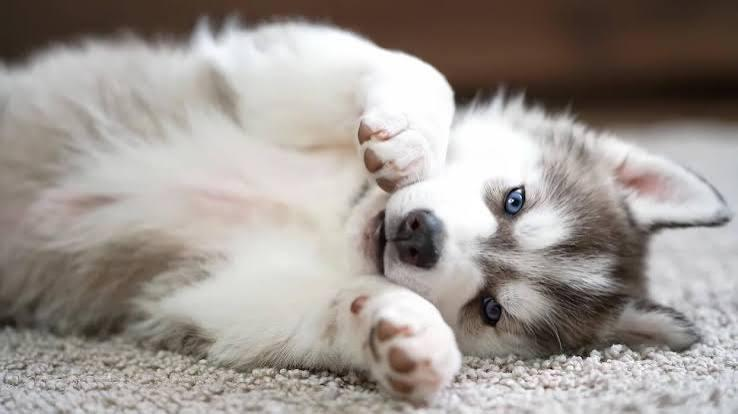puppy-dog: (0, 17, 734, 410)
